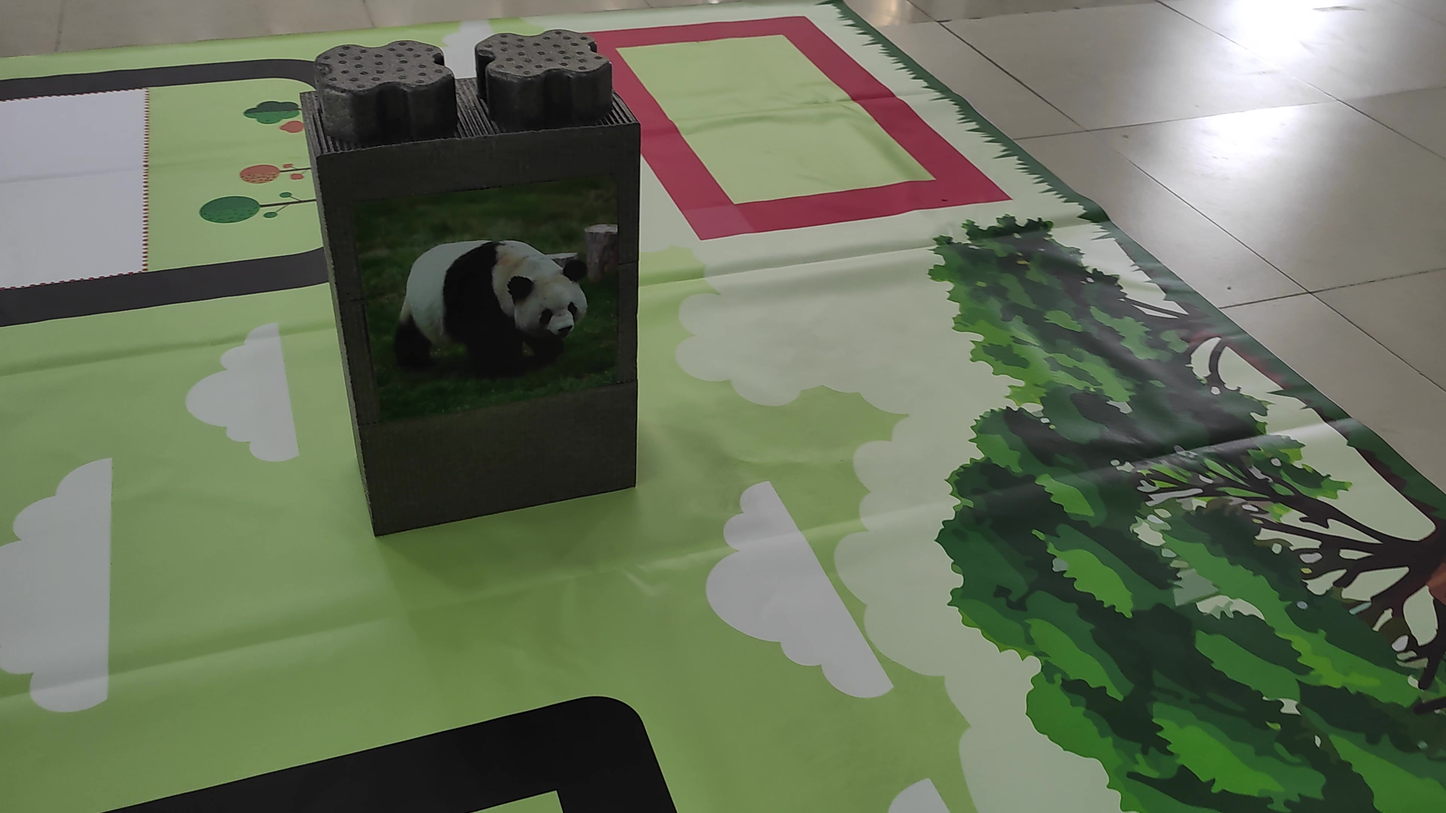panda: (372, 213, 601, 394)
